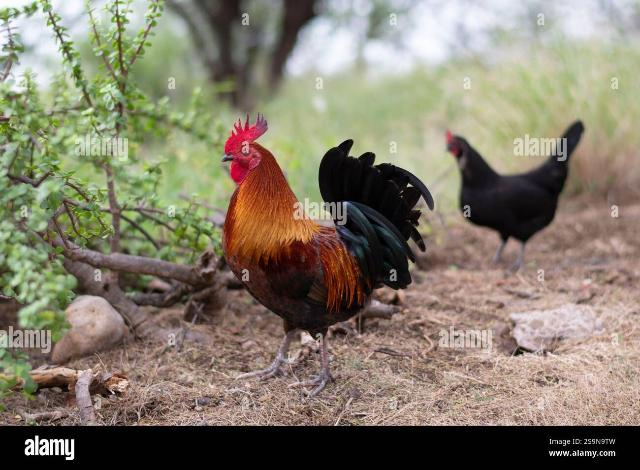Chicken: (221, 111, 433, 393), (444, 120, 587, 266)
